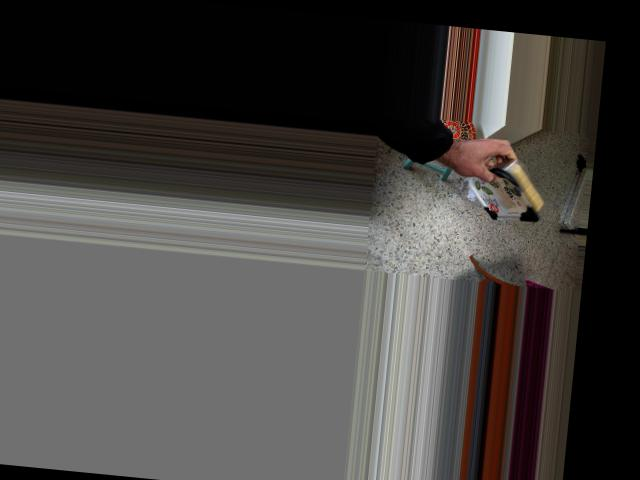cheese: (466, 131, 569, 250)
